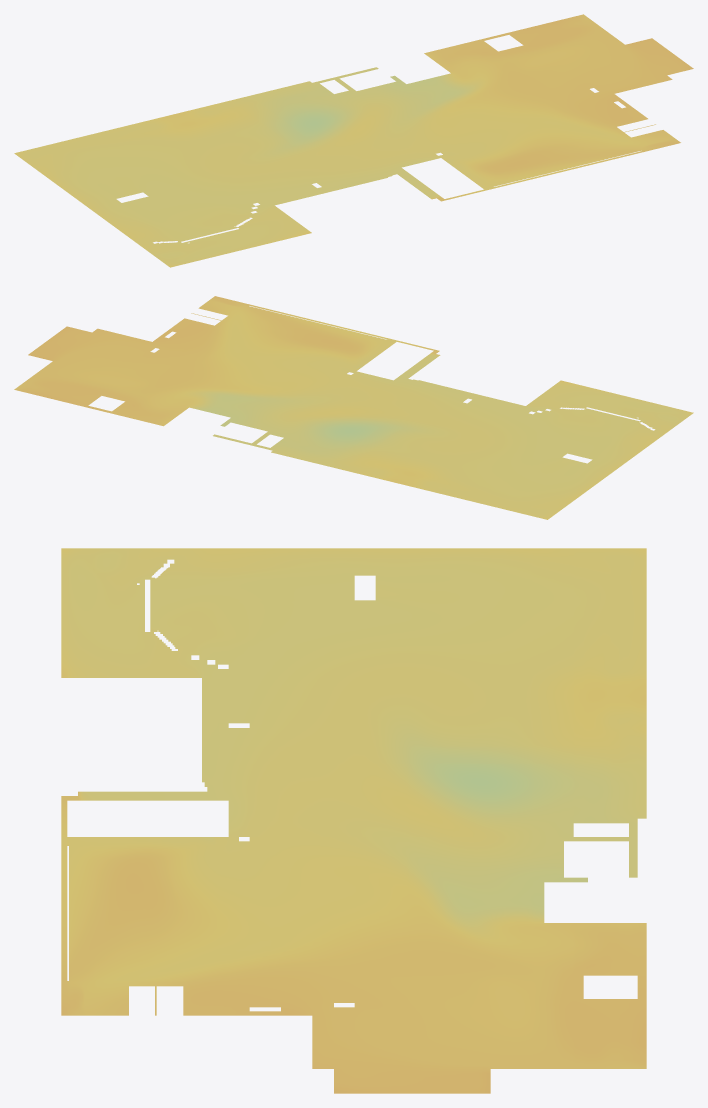
File: A_temperature_z1.1.glb
3 renders of one model, top to bottom at view 1: azimuth 30°, elevation 25°; view 2: azimuth 150°, elevation 25°; view 3: azimuth 270°, elevation 25°, orthographic. The views are drawn at different scales.
Size of the model in its own units: 7.18 by 0 by 3.26.
